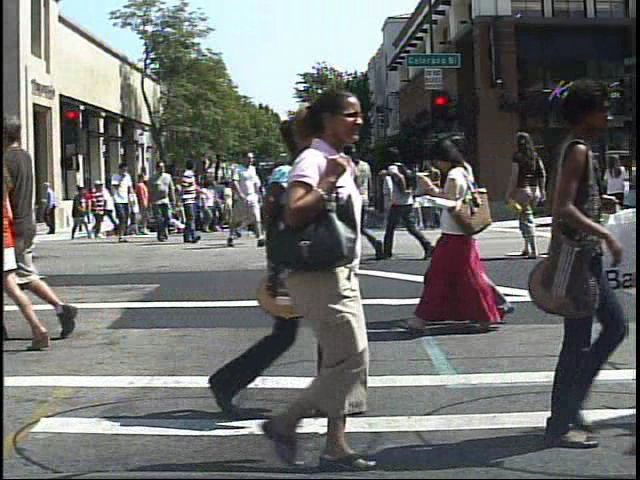person: (211, 83, 405, 479), (492, 79, 624, 462), (3, 102, 94, 345), (407, 133, 505, 336), (379, 139, 439, 266), (456, 127, 491, 342), (502, 130, 556, 262), (351, 135, 391, 271), (554, 137, 597, 260), (226, 146, 264, 252), (603, 145, 636, 249), (146, 157, 179, 245), (173, 157, 203, 247), (107, 161, 136, 244), (383, 164, 408, 236), (83, 178, 109, 241), (78, 182, 98, 230), (7, 126, 8, 351)
